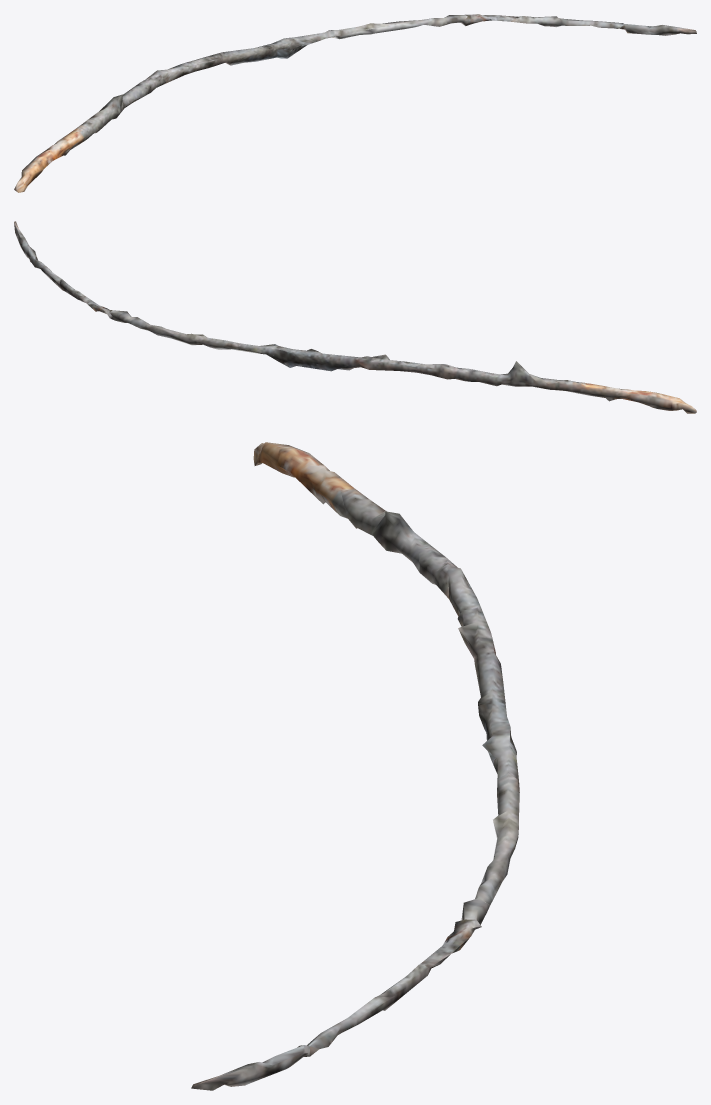
File: SM_Branch_10.fbx
The picture shows the model from 3 angles, top to bottom: view 1: azimuth 30°, elevation 25°; view 2: azimuth 150°, elevation 25°; view 3: azimuth 270°, elevation 25°; orthographic projection. The views are drawn at different scales.
Visible parts, largest first — view 1: SM_Branch_10; view 2: SM_Branch_10; view 3: SM_Branch_10.
Boxes of the visible parts, x1,y1,x2,y2 form: SM_Branch_10: (14,14,696,192); SM_Branch_10: (14,221,696,413); SM_Branch_10: (191,442,519,1090).
Size of the model in its own units: 271 by 57.85 by 16.14.
Materials: 1 (1 with a texture image).
